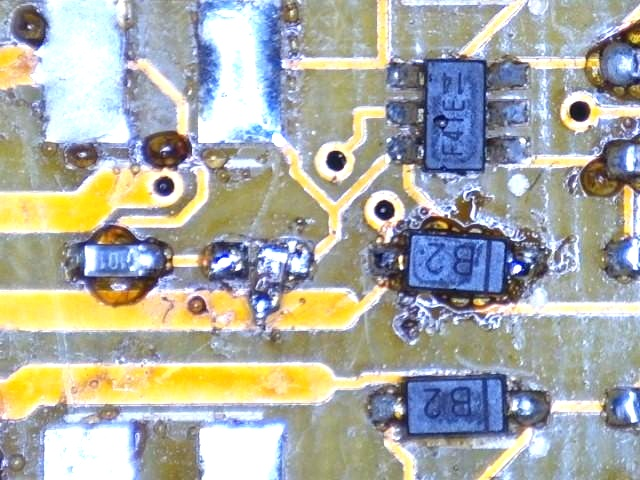pcb_defect: (251, 238, 311, 321), (602, 43, 636, 87), (488, 59, 529, 89), (486, 136, 527, 163), (488, 100, 528, 125)
